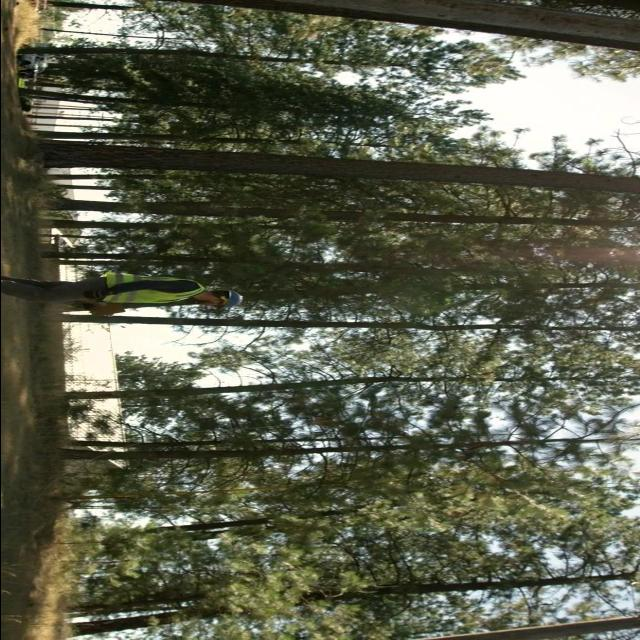helmet: (215, 287, 248, 317)
jacket: (100, 265, 210, 305)
